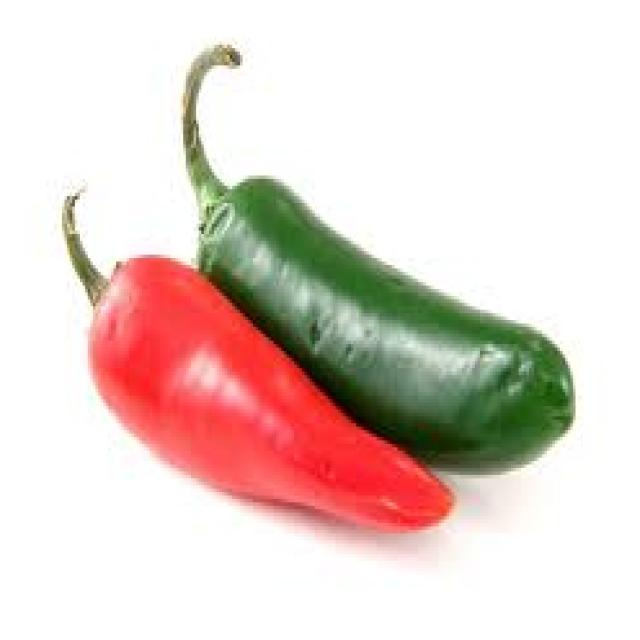chili: (54, 28, 601, 540)
